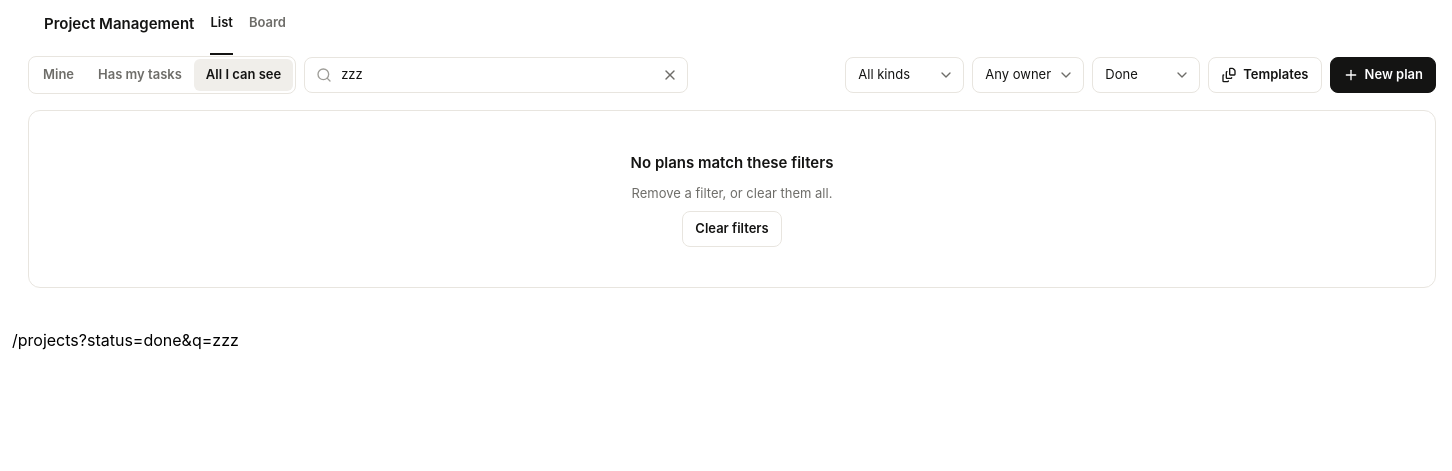
Test: /projects: the list (spec §2.1) › says when filters match nothing, and Clear filters goes back to open plans
expect the text "No plans match these filters" is shown: met, box [631, 151, 833, 175]
Click the button "Clear filters" at (732, 229), box [682, 211, 782, 247]
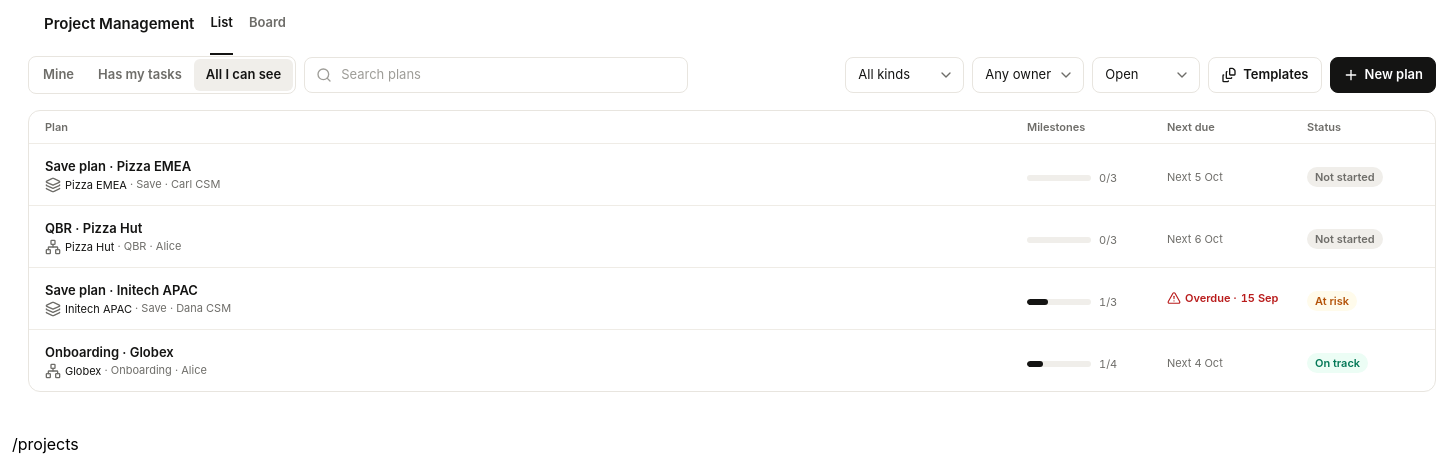
expect the text with test id "where" reads "/projects": met, box [12, 434, 79, 454]
